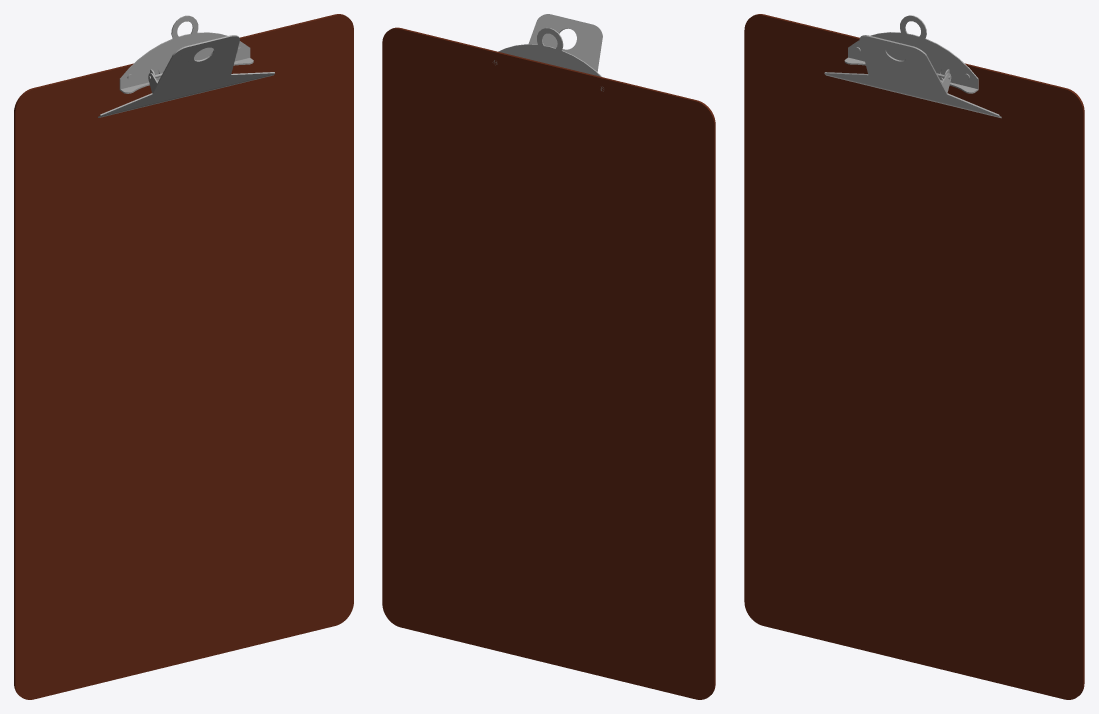
3 views of the same model, side by side, from view 1: azimuth 30°, elevation 25°; view 2: azimuth 150°, elevation 25°; view 3: azimuth 330°, elevation 25° (orthographic). The views are drawn at different scales.
Visible parts, largest first — view 1: clip board; view 2: clip board; view 3: clip board.
Part boxes in pixels (x1,y1,x2,y2): clip board: (14, 14, 353, 699); clip board: (382, 14, 715, 699); clip board: (744, 14, 1084, 699).
Bounding box in the file's own units: 9 × 16.43 × 1.16.
